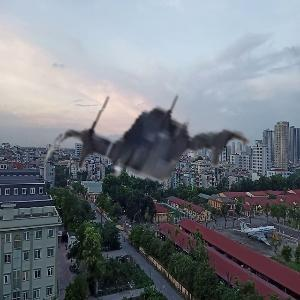drone: (43, 49, 253, 259)
